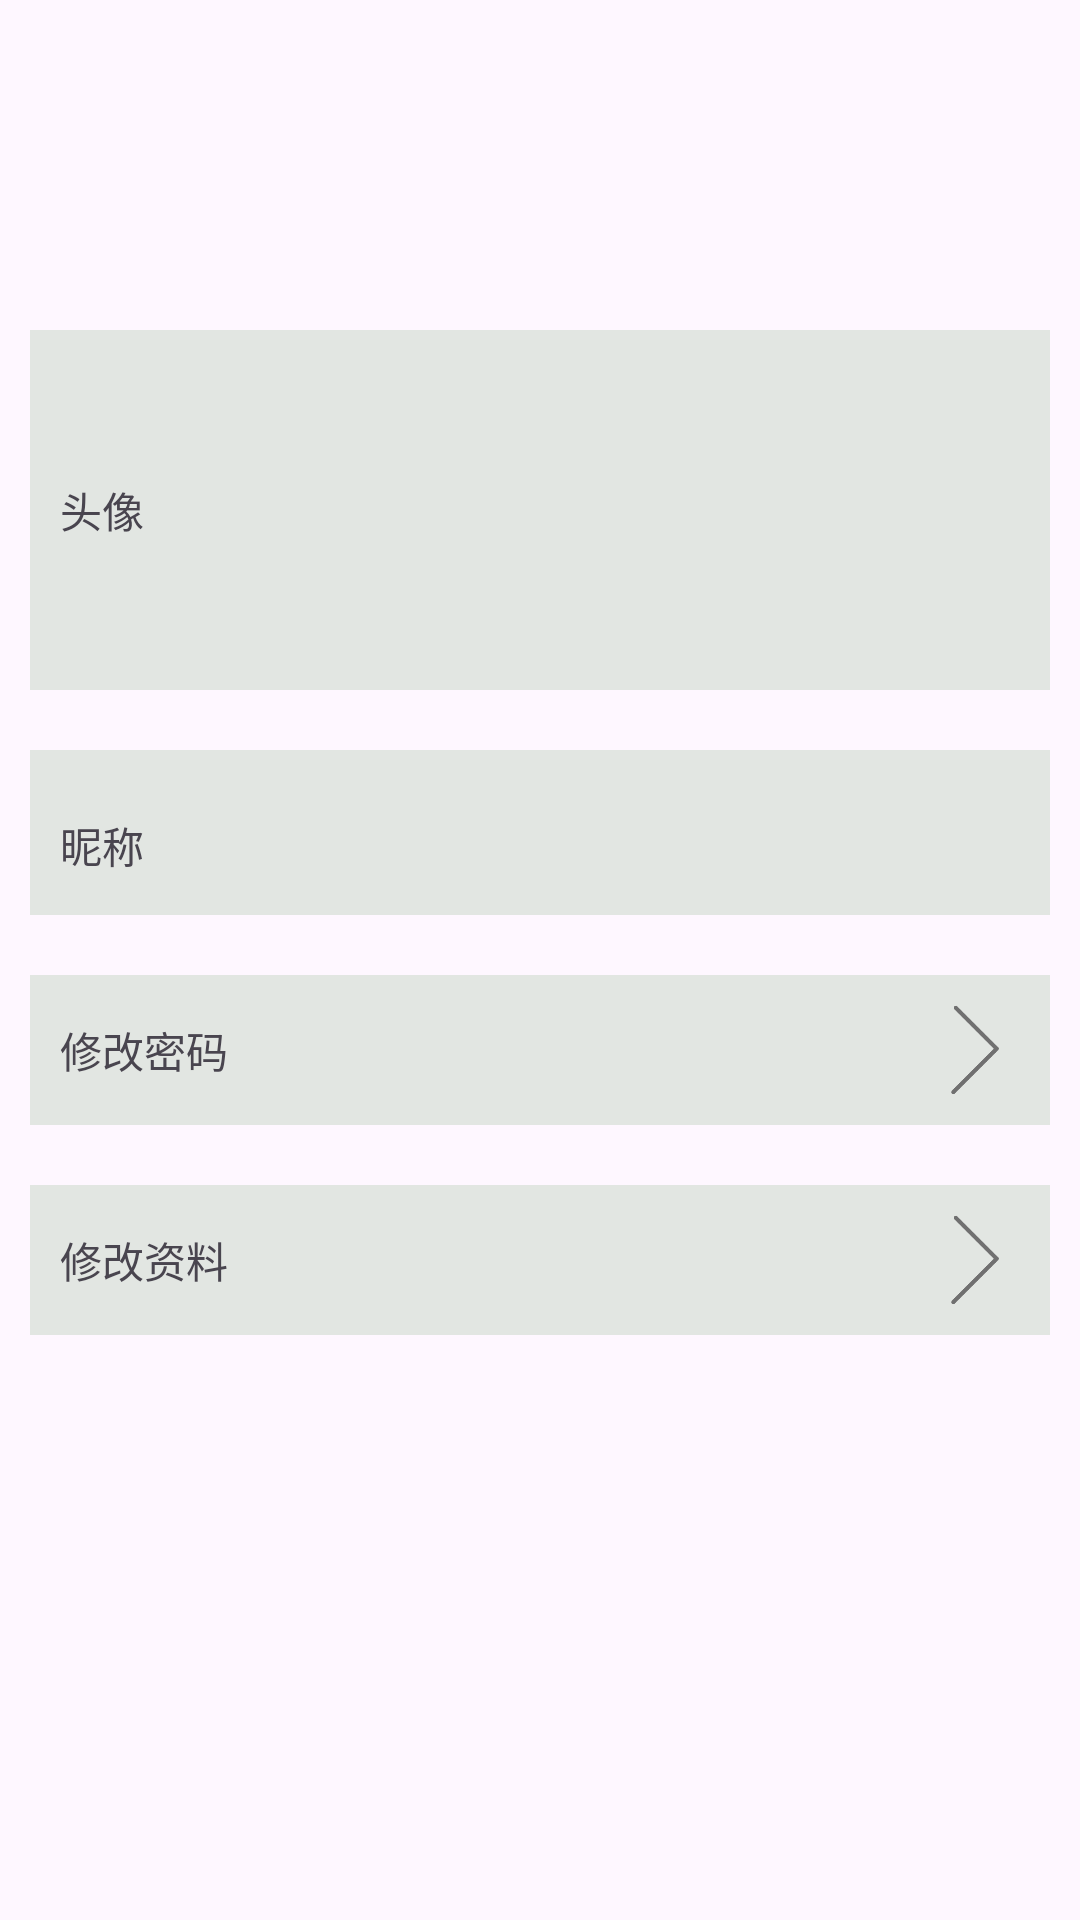

Icon bounding boxes for this 1080 x 1920 phone screenshot, format {"left": x1, "top": y1, "right": x2, "bottom": y2}:
arrow: {"left": 951, "top": 1006, "right": 999, "bottom": 1094}, {"left": 951, "top": 1216, "right": 999, "bottom": 1304}
